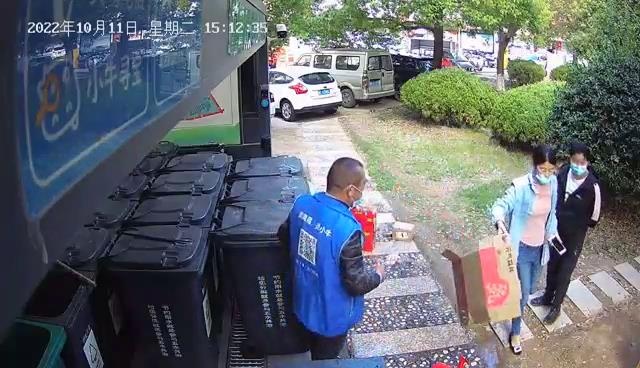person: (530, 139, 602, 326)
worker: (276, 156, 383, 360), (490, 145, 567, 354)
zhizhipin: (440, 236, 523, 326), (351, 202, 377, 252), (391, 220, 416, 241)
